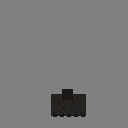armoured_vehicle: (51, 94, 86, 116)
